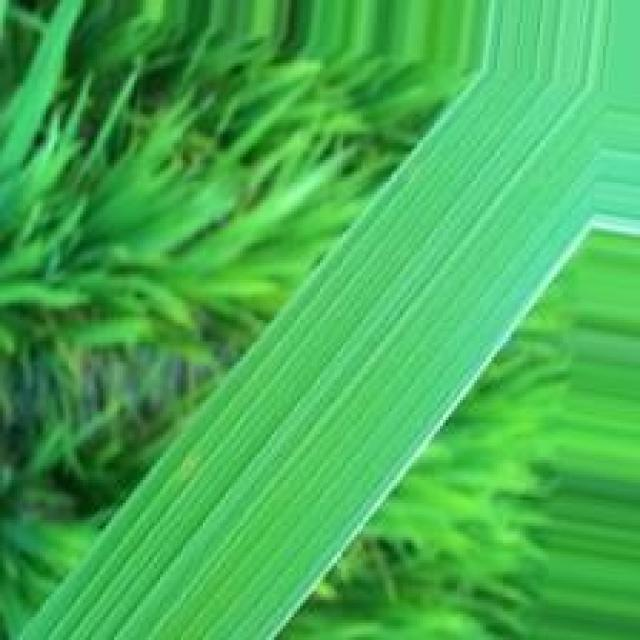HealthyLeaf: (31, 78, 588, 636)
